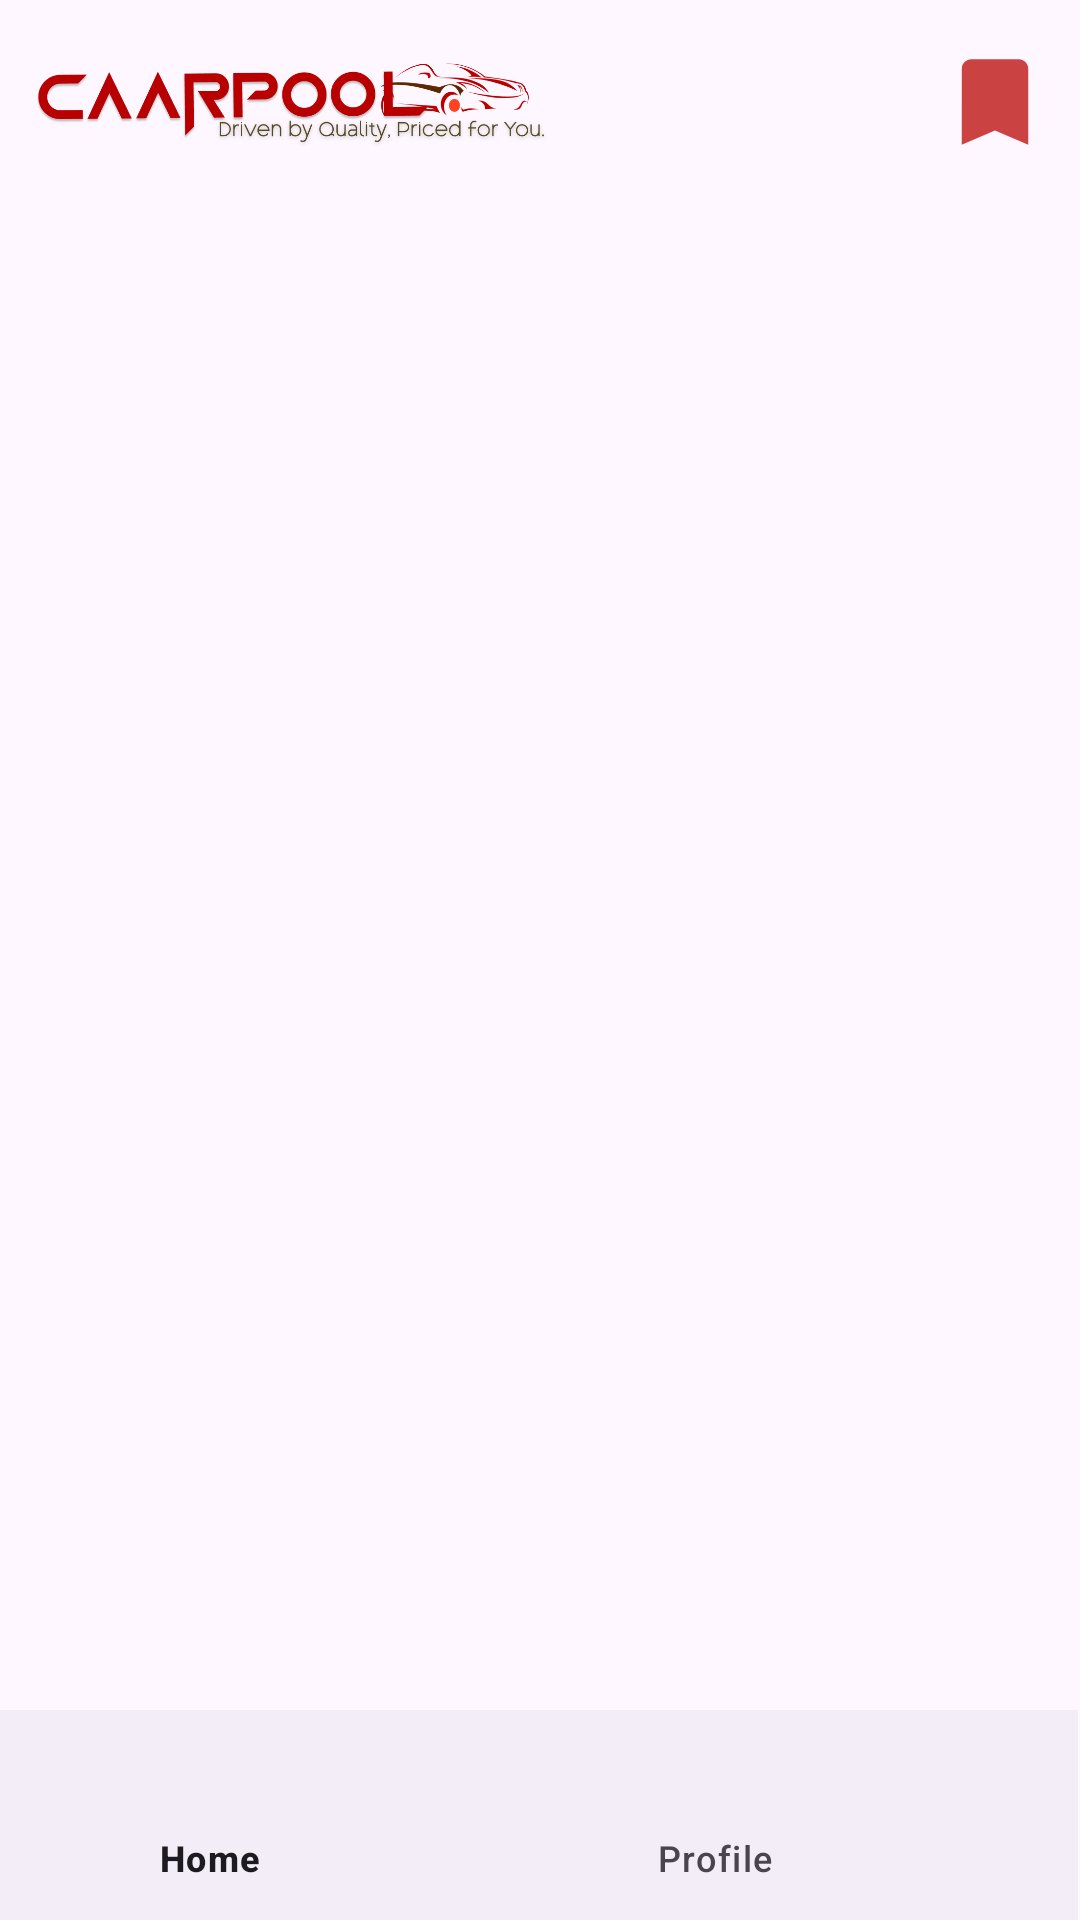

Named icons in this screenshot (1080px×1920px) and their centers, point (x, y):
bookmark: point (995, 102)
